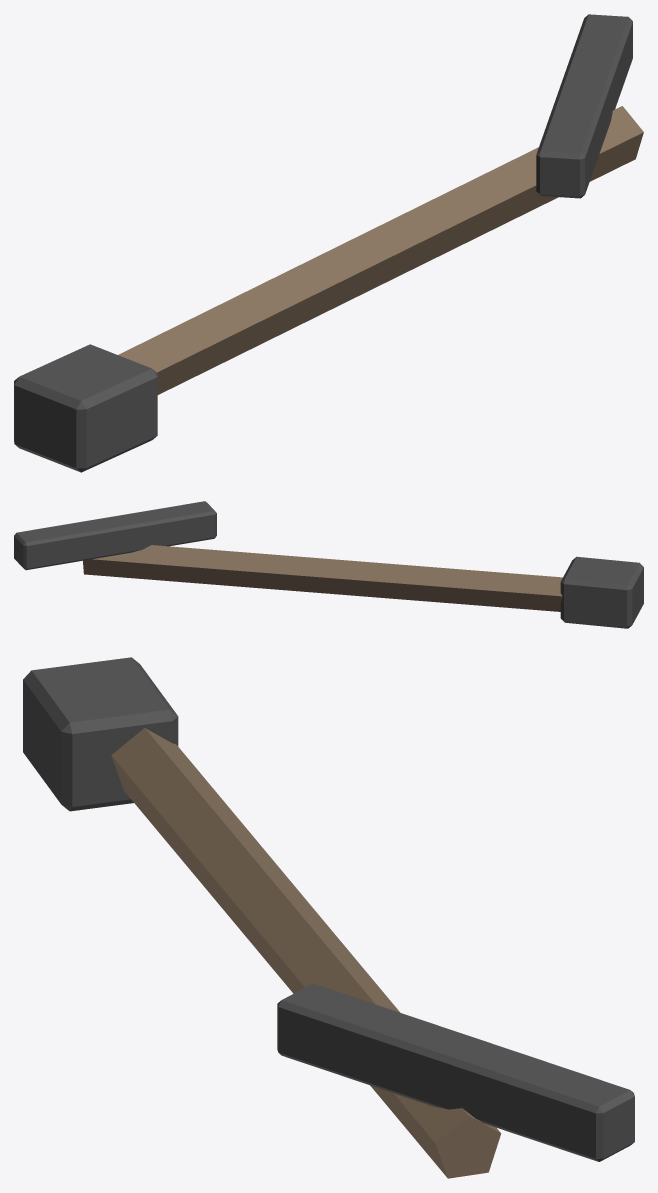
Rendered from pickaxe_head_pile.glb.
3 views of the same model, one above another, from view 1: azimuth 30°, elevation 25°; view 2: azimuth 150°, elevation 25°; view 3: azimuth 270°, elevation 25° (orthographic). The views are drawn at different scales.
Parts seen in each view (by area): view 1: wood, iron; view 2: wood, iron; view 3: iron, wood.
Boxes of the visible parts, x1,y1,x2,y2 form: wood: (118, 106, 643, 394); iron: (14, 14, 632, 472); wood: (83, 545, 562, 611); iron: (14, 501, 643, 628); iron: (23, 657, 634, 1161); wood: (111, 728, 501, 1178).
Bounding box in the file's own units: 0.9424 × 0.11 × 0.4993.
